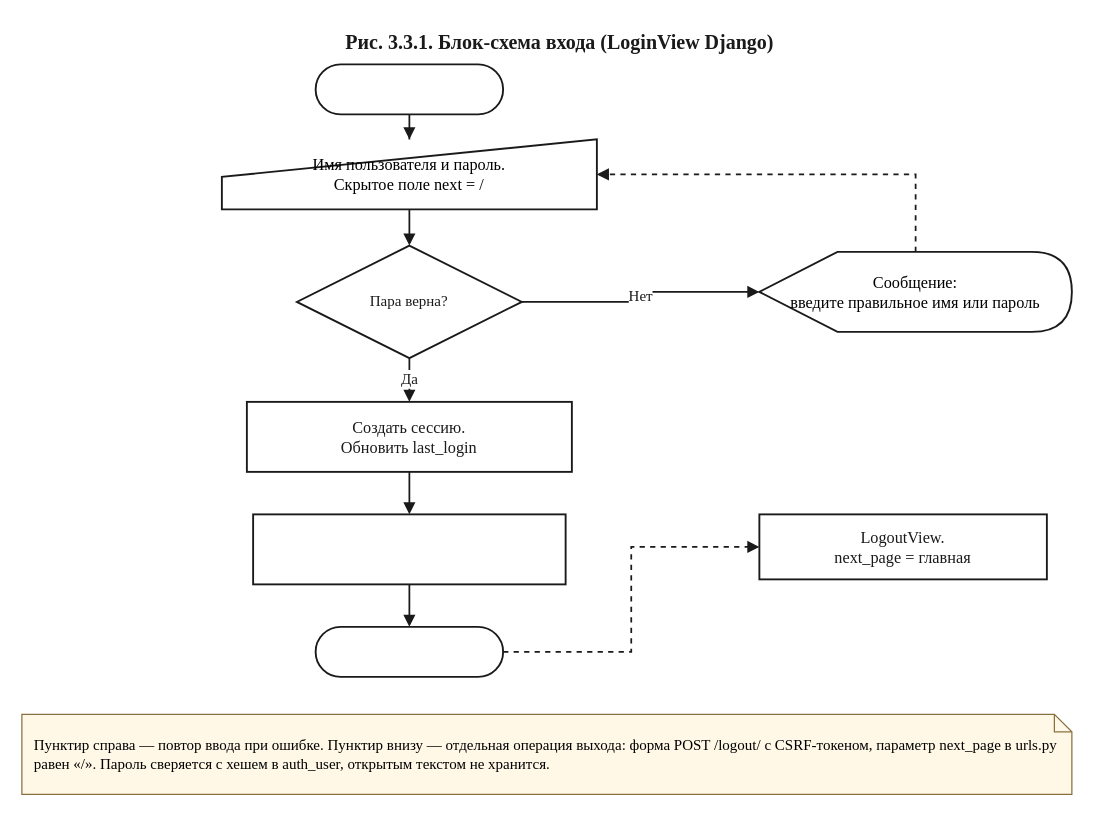
The diagram is 1095 pixels wide and 816 high, and some of its shapes have lost their labels. Here are the shapes that lost their labels. From the top down, the centre of each, then its label:
pixel 409 89: Начало
pixel 409 549: Перейти по next на главную страницу
pixel 409 651: Конец
